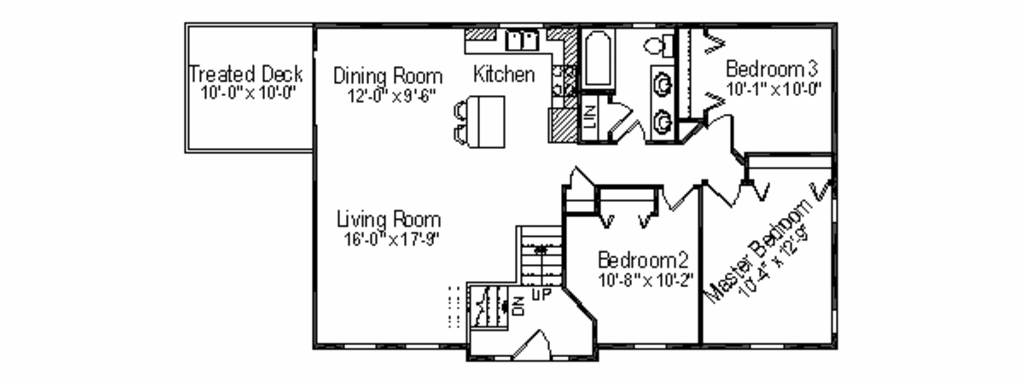door: (698, 177, 746, 209), (512, 329, 552, 366), (712, 110, 743, 150), (662, 180, 699, 210), (608, 99, 633, 138), (566, 162, 598, 187)
kitchen_bar: (452, 96, 509, 155)
large_sink: (639, 30, 679, 61)
small_sink: (648, 63, 676, 144)
stairs: (465, 223, 561, 336)
tub: (579, 25, 616, 89)
